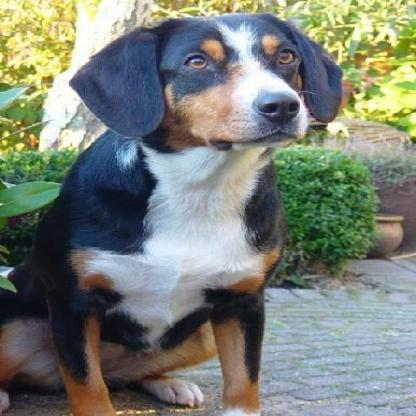EntleBucher: (1, 8, 351, 414)
